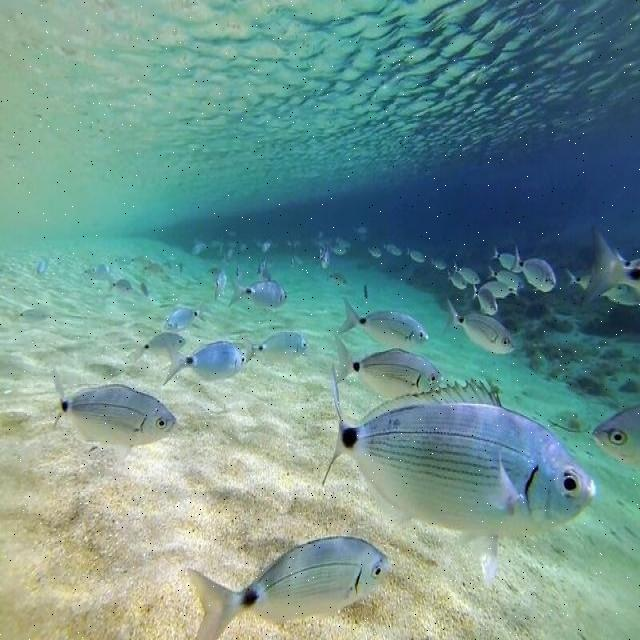fish: (321, 368, 600, 588), (187, 539, 387, 639), (50, 368, 175, 447), (332, 335, 445, 397), (336, 296, 433, 347), (161, 340, 245, 386), (443, 302, 515, 353), (590, 404, 639, 462), (230, 271, 290, 305), (510, 248, 557, 291), (243, 333, 307, 364)
